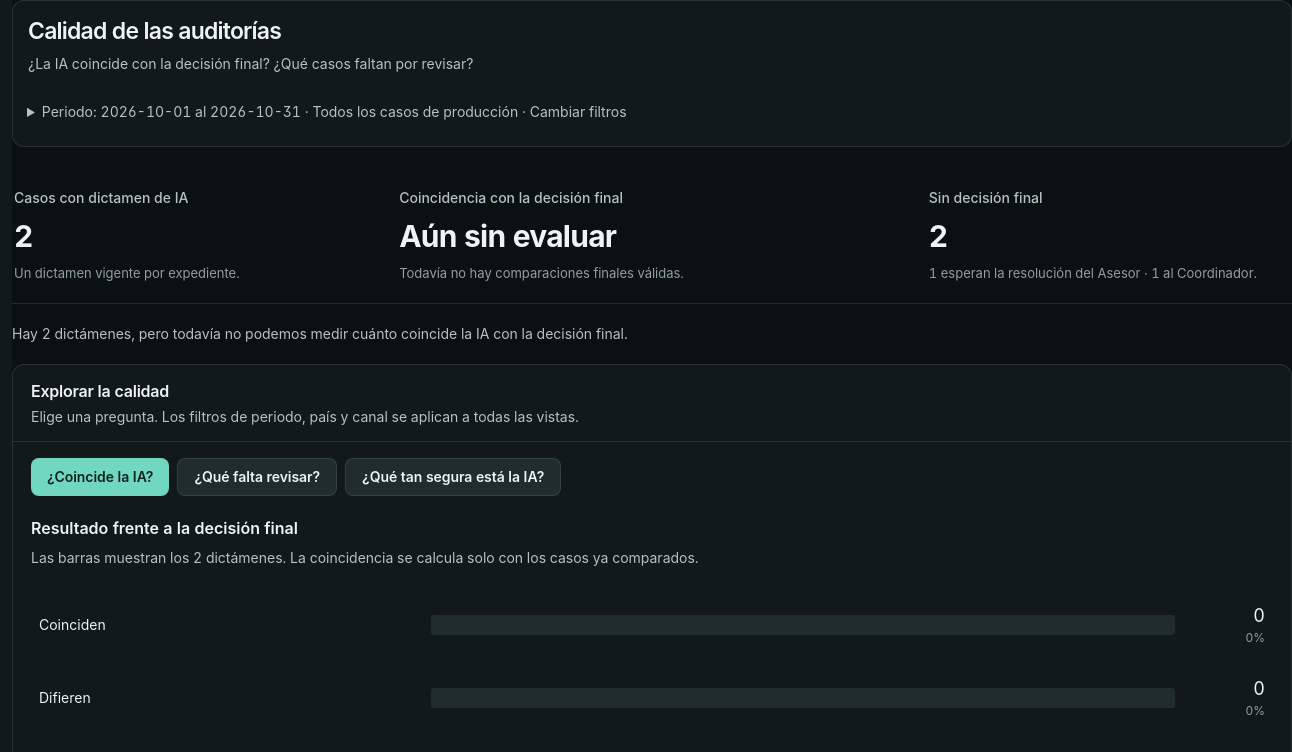
Test: explica que aún no puede medirse la coincidencia cuando faltan revisiones
Check: the text "Aún sin evaluar" is shown, box [399,218,616,254]
Check: the message shows "todavía no podemos medir", box [12,325,628,342]
What coordinates should you click on to do the following:
click the button "¿Qué falta revisar?"
I would click on:
 (257, 477)
Its box is [177,458,337,496].
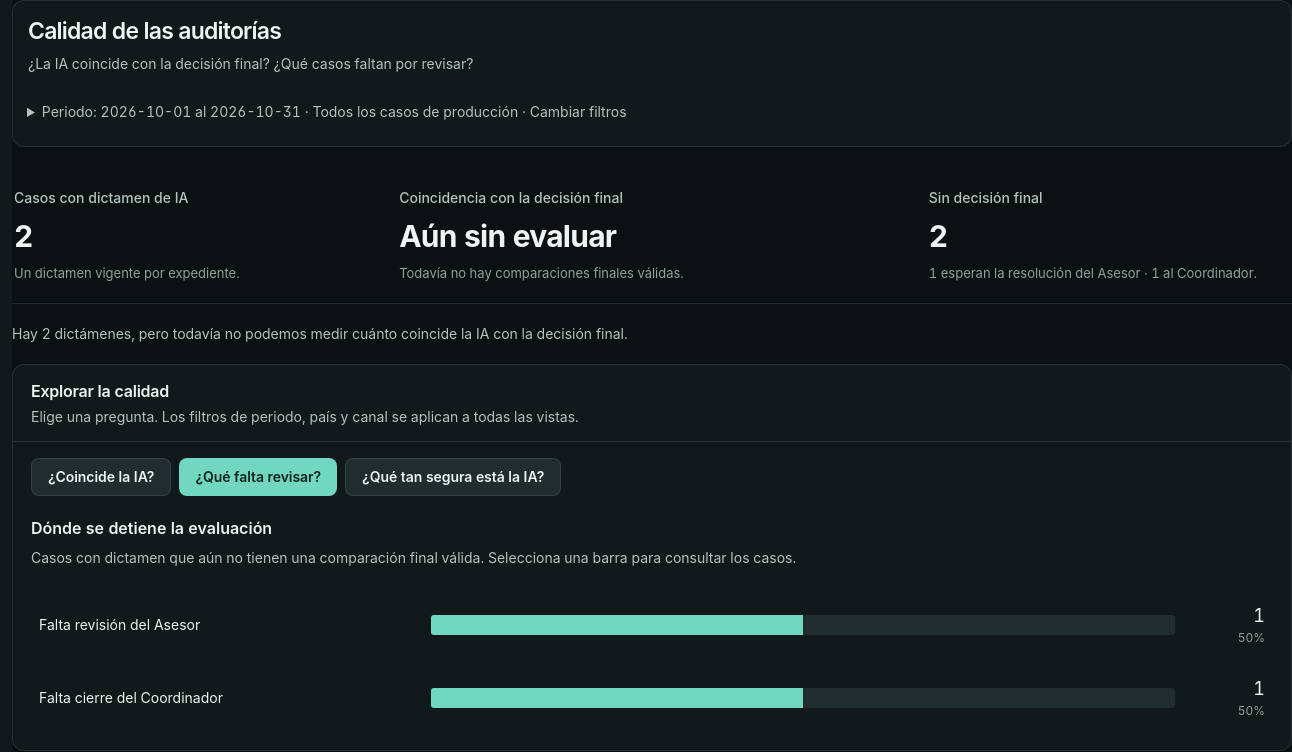
Check: the button with aria-label "Falta revisión del Asesor: 1 casos" is shown, box [31,588,1273,661]
Check: the button with aria-label "Falta cierre del Coordinador: 1 casos" is shown, box [31,661,1273,734]
